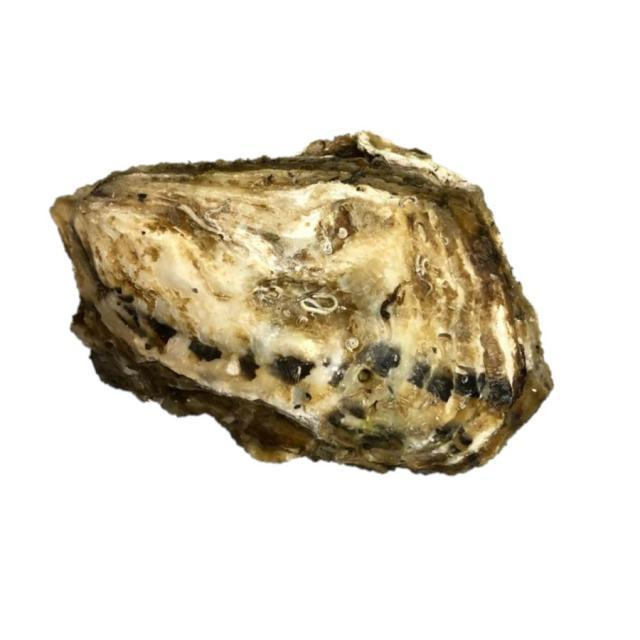Oyster- Indeterminate: (49, 131, 555, 479)
